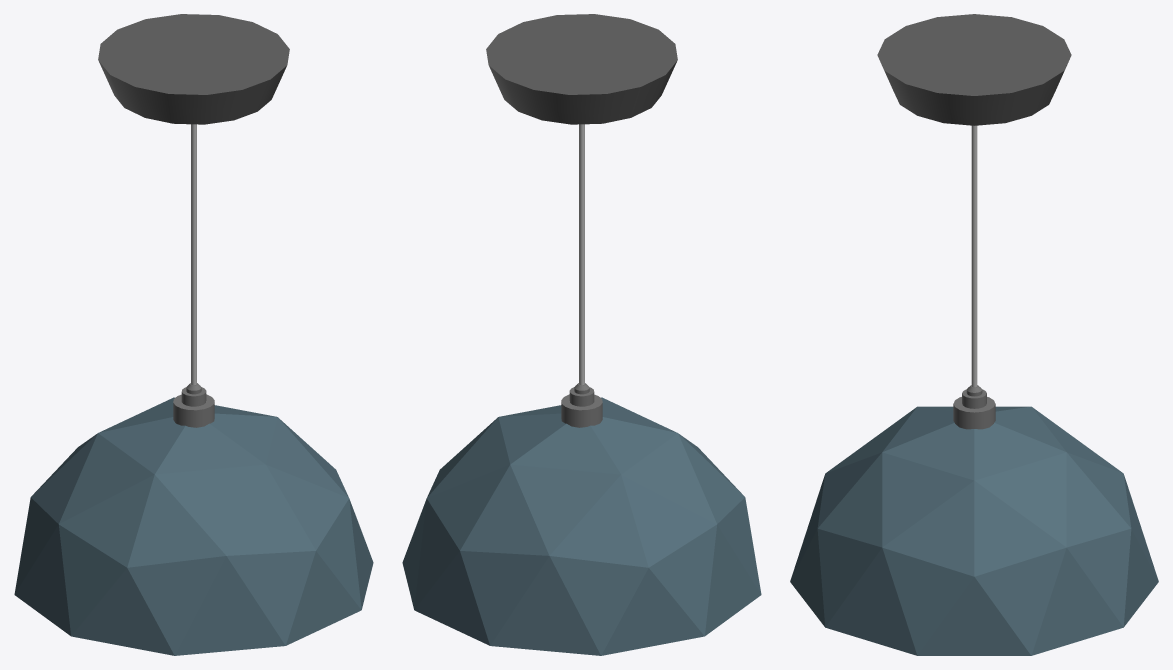
The model's file is Lamp07.fbx.
3 views of the same model, side by side, from view 1: azimuth 30°, elevation 25°; view 2: azimuth 150°, elevation 25°; view 3: azimuth 270°, elevation 25° (orthographic).
Parts seen in each view (by area): view 1: Lamp07; view 2: Lamp07; view 3: Lamp07.
Boxes of the visible parts, <box> form: Lamp07: <box>14,14,373,655</box>; Lamp07: <box>402,14,761,655</box>; Lamp07: <box>790,14,1158,655</box>.
Size of the model in its own units: 0.4342 by 0.4565 by 0.7203.
